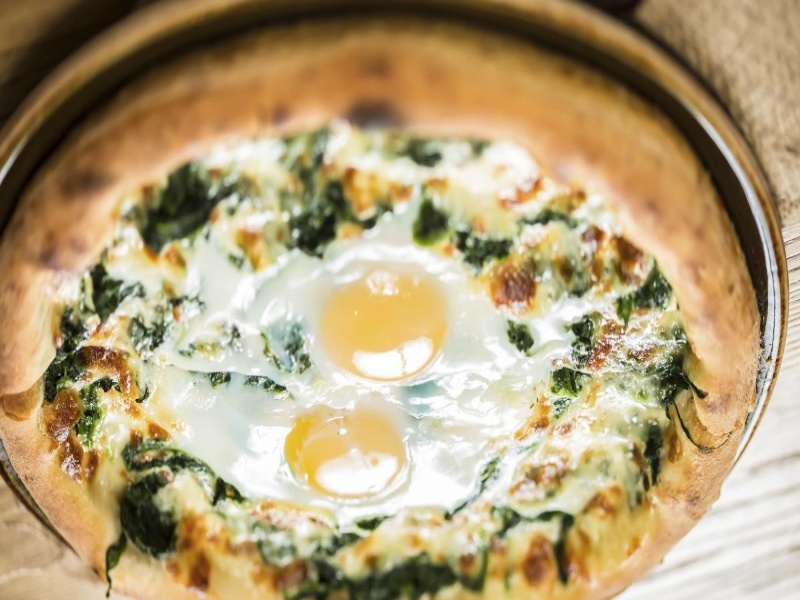oeuf: (298, 263, 453, 393), (260, 397, 427, 516)
